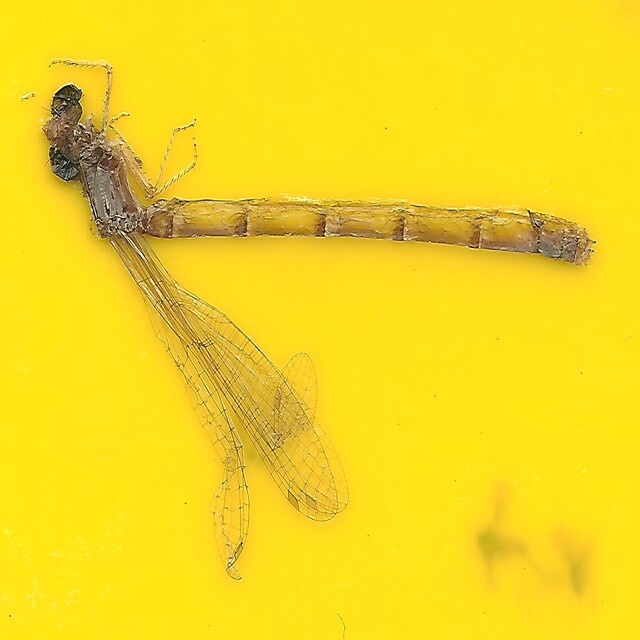Odonata: (42, 59, 598, 581)
